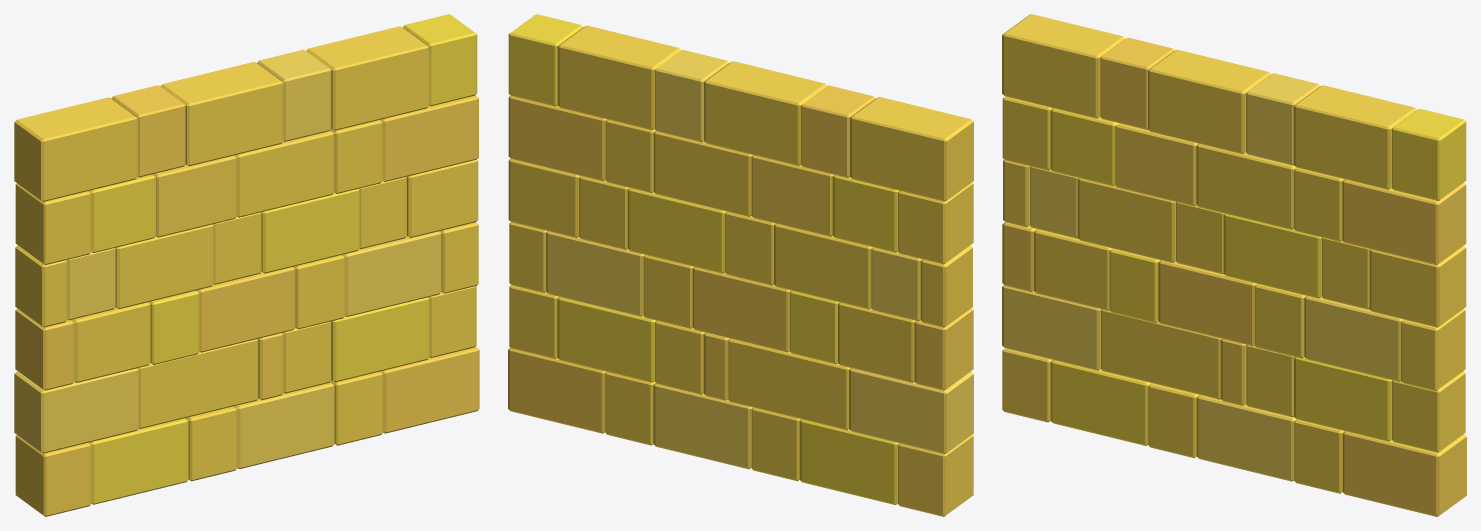
File: 3dwall.fbx
3 views of the same model, side by side, from view 1: azimuth 30°, elevation 25°; view 2: azimuth 150°, elevation 25°; view 3: azimuth 330°, elevation 25° (orthographic).
Parts seen in each view (by area): view 1: Cube.002; view 2: Cube.002; view 3: Cube.002.
Part boxes in pixels (x1,y1,x2,y2): Cube.002: [14, 14, 479, 516]; Cube.002: [508, 14, 973, 516]; Cube.002: [1002, 14, 1466, 516].
Size of the model in its own units: 446 by 367 by 52.6.
